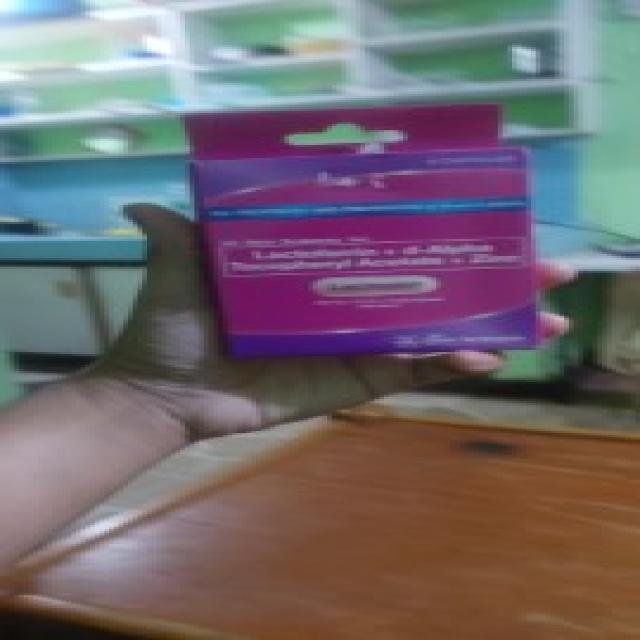Cacat: (191, 111, 526, 352)
